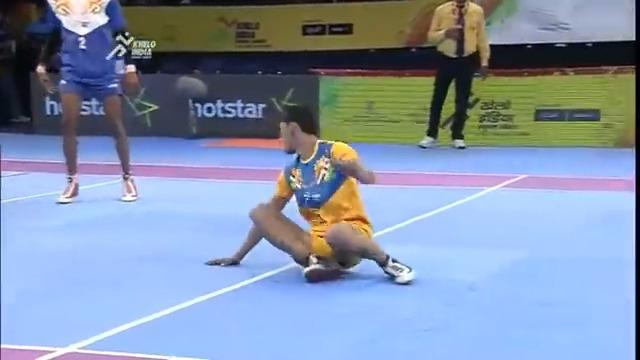Player: (35, 0, 144, 203)
Raider: (204, 102, 415, 285)
referee: (417, 0, 491, 149)
